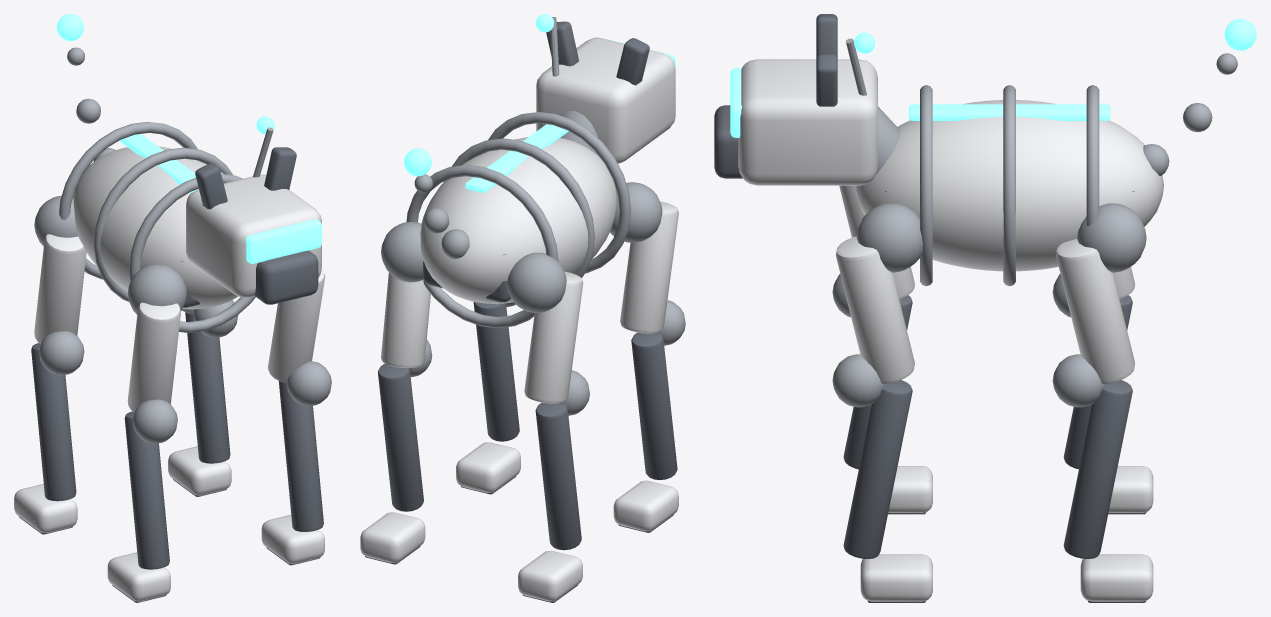
File: robot_pet.glb
3 views of the same model, side by side, from view 1: azimuth 30°, elevation 25°; view 2: azimuth 150°, elevation 25°; view 3: azimuth 270°, elevation 25° (orthographic). The views are drawn at different scales.
Visible parts, largest first — view 1: Pet_Torso, Pet_Head, Pet_Shin_F_-1, Pet_Shin_R_-1, Pet_Thigh_F_-1, Pet_Shin_F_1, Pet_Thigh_R_-1, Pet_Shin_R_1, Pet_Thigh_F_1, Pet_Muzzle, Pet_ShellSeam_1, Pet_ShellSeam_0 (+17 smaller); view 2: Pet_Torso, Pet_Head, Pet_Thigh_F_-1, Pet_Thigh_R_-1, Pet_Shin_F_-1, Pet_Shin_R_-1, Pet_Shin_R_1, Pet_Shin_F_1, Pet_ShellSeam_2, Pet_Thigh_R_1, Pet_ShellSeam_0, Pet_Hip_R_-1 (+17 smaller); view 3: Pet_Torso, Pet_Head, Pet_Thigh_F_1, Pet_Thigh_R_1, Pet_Shin_F_1, Pet_Shin_R_1, Pet_Paw_R_1, Pet_Paw_F_1, Pet_Hip_F_1, Pet_Hip_R_1, Pet_DorsalStrip, Pet_ShellSeam_1 (+15 smaller).
Boxes of the visible parts, x1,y1,x2,y2 form: Pet_Torso: (73, 146, 237, 309); Pet_Head: (186, 174, 321, 297); Pet_Shin_F_-1: (124, 411, 169, 569); Pet_Shin_R_-1: (31, 343, 76, 501); Pet_Thigh_F_-1: (127, 302, 180, 412); Pet_Shin_F_1: (278, 381, 323, 531); Pet_Thigh_R_-1: (34, 234, 86, 344); Pet_Shin_R_1: (185, 312, 230, 463); Pet_Thigh_F_1: (268, 269, 325, 383); Pet_Muzzle: (254, 250, 318, 304); Pet_ShellSeam_1: (93, 147, 232, 301); Pet_ShellSeam_0: (129, 174, 255, 332); Pet_Torso: (420, 137, 616, 303); Pet_Head: (536, 37, 675, 163); Pet_Thigh_F_-1: (620, 201, 678, 333); Pet_Thigh_R_-1: (524, 271, 583, 403); Pet_Shin_F_-1: (631, 332, 677, 479); Pet_Shin_R_-1: (535, 402, 581, 550); Pet_Shin_R_1: (378, 363, 423, 511); Pet_Shin_F_1: (473, 302, 519, 441); Pet_ShellSeam_2: (406, 165, 558, 328); Pet_Thigh_R_1: (381, 272, 430, 367); Pet_ShellSeam_0: (488, 112, 630, 273); Pet_Hip_R_-1: (507, 252, 566, 312); Pet_Torso: (855, 100, 1163, 271); Pet_Head: (738, 59, 877, 185); Pet_Thigh_F_1: (835, 236, 914, 383); Pet_Thigh_R_1: (1056, 239, 1134, 383); Pet_Shin_F_1: (843, 380, 912, 558); Pet_Shin_R_1: (1063, 380, 1132, 558); Pet_Paw_R_1: (1080, 554, 1153, 601); Pet_Paw_F_1: (860, 554, 932, 601); Pet_Hip_F_1: (856, 203, 922, 272); Pet_Hip_R_1: (1077, 203, 1146, 272); Pet_DorsalStrip: (909, 104, 1110, 120); Pet_ShellSeam_1: (1003, 85, 1015, 286).
Bounding box in the file's own units: 0.196 × 0.442 × 0.404.
